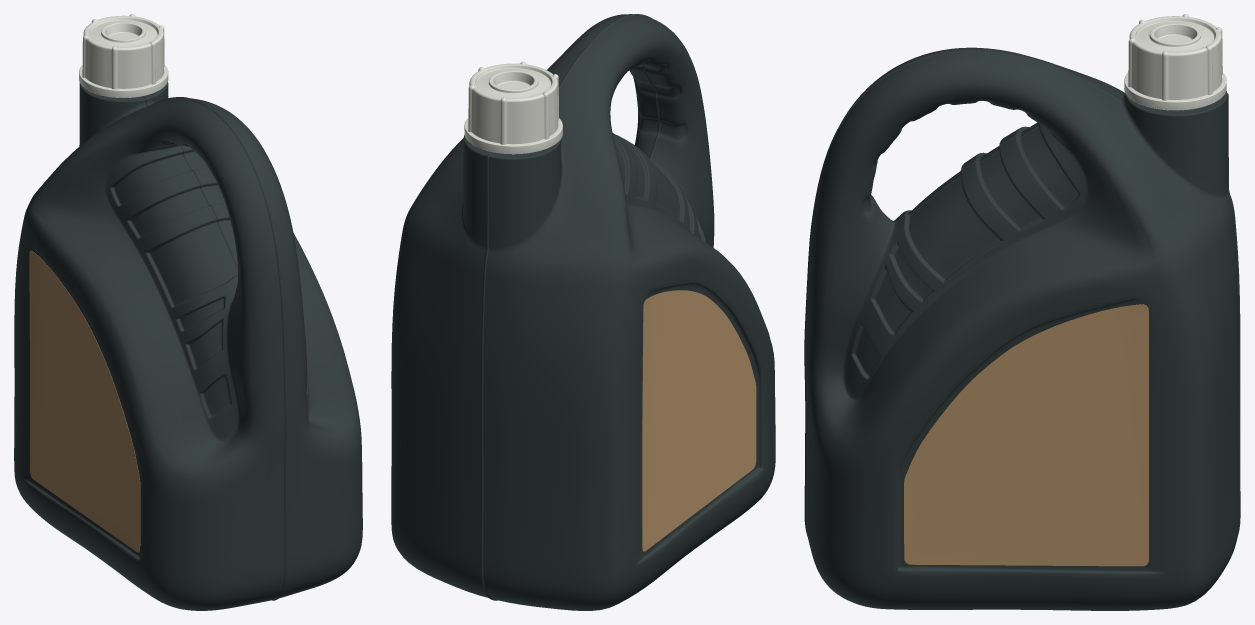
The model's file is consumable_transmission_fluid_a01.glb.
3 views of the same model, side by side, from view 1: azimuth 30°, elevation 25°; view 2: azimuth 150°, elevation 25°; view 3: azimuth 270°, elevation 25° (orthographic). The views are drawn at different scales.
Size of the model in its own units: 0.1336 by 0.2727 by 0.2029.
